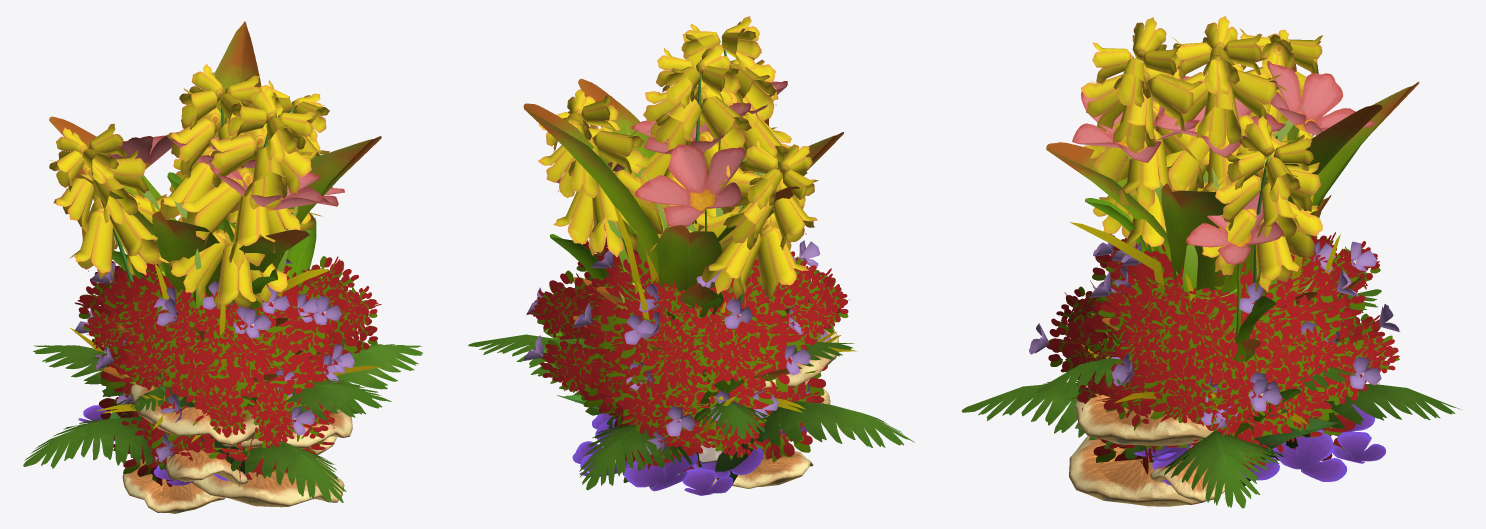
File: nature_plants.glb
The picture shows the model from 3 angles, left to right: view 1: azimuth 30°, elevation 25°; view 2: azimuth 150°, elevation 25°; view 3: azimuth 270°, elevation 25°; orthographic projection. The views are drawn at different scales.
Visible parts, largest first — view 1: Flower_4_Group, Bush_Common, Bush_Common_Flowers, Fern_1, Mushroom_Laetiporus, Plant_1_Big, Flower_4_Single, Flower_3_Group, Grass_Wispy_Tall, Grass_Common_Tall, Plant_7_Big, Flower_3_Single; view 2: Bush_Common, Flower_4_Group, Bush_Common_Flowers, Fern_1, Plant_1_Big, Flower_4_Single, Flower_3_Group, Plant_7_Big, Mushroom_Laetiporus, Grass_Wispy_Tall, Flower_3_Single, Grass_Common_Tall; view 3: Bush_Common, Flower_4_Group, Bush_Common_Flowers, Fern_1, Plant_1_Big, Flower_4_Single, Flower_3_Group, Mushroom_Laetiporus, Plant_7_Big, Grass_Wispy_Tall, Flower_3_Single, Grass_Common_Tall.
Boxes of the visible parts, x1,y1,x2,y2 form: Flower_4_Group: (49, 80, 329, 476); Bush_Common: (74, 249, 381, 486); Bush_Common_Flowers: (75, 253, 377, 486); Fern_1: (23, 339, 423, 502); Mushroom_Laetiporus: (122, 384, 352, 513); Plant_1_Big: (49, 21, 381, 384); Flower_4_Single: (156, 64, 267, 280); Flower_3_Group: (88, 132, 344, 410); Grass_Wispy_Tall: (70, 198, 381, 442); Grass_Common_Tall: (136, 177, 297, 317); Plant_7_Big: (78, 405, 229, 485); Flower_3_Single: (166, 134, 255, 189); Bush_Common: (527, 225, 849, 484); Flower_4_Group: (538, 16, 823, 487); Bush_Common_Flowers: (523, 240, 848, 487); Fern_1: (468, 334, 914, 490); Plant_1_Big: (523, 78, 843, 382); Flower_4_Single: (635, 44, 751, 252); Flower_3_Group: (544, 81, 787, 415); Plant_7_Big: (572, 419, 807, 495); Mushroom_Laetiporus: (712, 328, 838, 488); Grass_Wispy_Tall: (614, 194, 856, 433); Flower_3_Single: (631, 102, 751, 324); Grass_Common_Tall: (607, 124, 777, 289); Bush_Common: (1046, 232, 1399, 474); Flower_4_Group: (1081, 17, 1338, 485); Bush_Common_Flowers: (1029, 234, 1400, 468); Fern_1: (961, 289, 1461, 508); Plant_1_Big: (1046, 64, 1419, 361); Flower_4_Single: (1157, 16, 1296, 416); Flower_3_Group: (1072, 60, 1374, 450); Mushroom_Laetiporus: (1069, 337, 1224, 506); Plant_7_Big: (1143, 404, 1385, 485); Grass_Wispy_Tall: (1069, 194, 1361, 457); Flower_3_Single: (1155, 76, 1285, 157); Grass_Common_Tall: (1124, 107, 1303, 453).
Size of the model in its own units: 2.83 by 2.66 by 2.65.
Materials: 6 (6 with a texture image).
